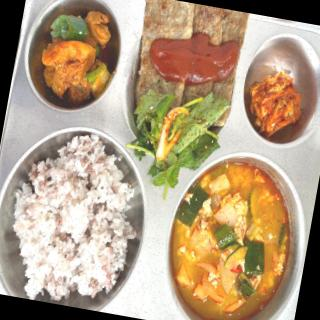Nasi: (5, 134, 143, 315)
